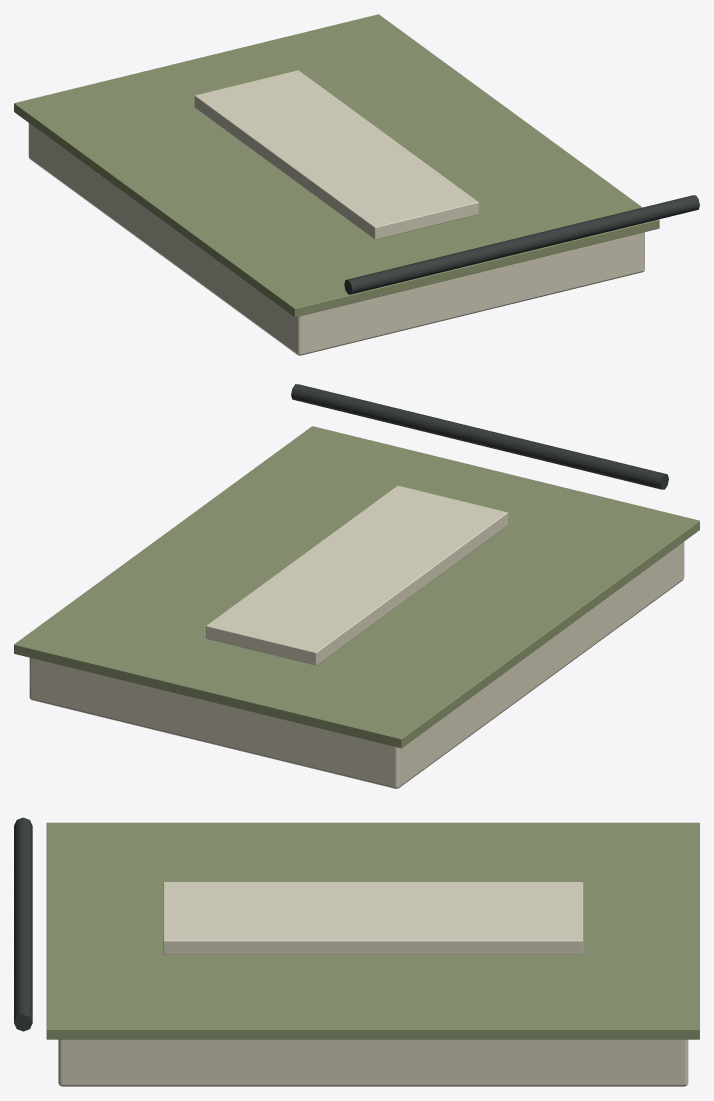
Rendered from research-and-crafting-progression-experiment-logbook-a95b363f__2869.glb.
3 views of the same model, one above another, from view 1: azimuth 30°, elevation 25°; view 2: azimuth 150°, elevation 25°; view 3: azimuth 270°, elevation 25° (orthographic). The views are drawn at different scales.
Parts seen in each view (by area): view 1: experiment-logbook; view 2: experiment-logbook; view 3: experiment-logbook.
Part boxes in pixels (bbox=[...]): experiment-logbook: bbox=[14, 14, 699, 355]; experiment-logbook: bbox=[14, 384, 699, 788]; experiment-logbook: bbox=[14, 817, 699, 1086].
Bounding box in the file's own units: 0.225 × 0.044 × 0.294.
